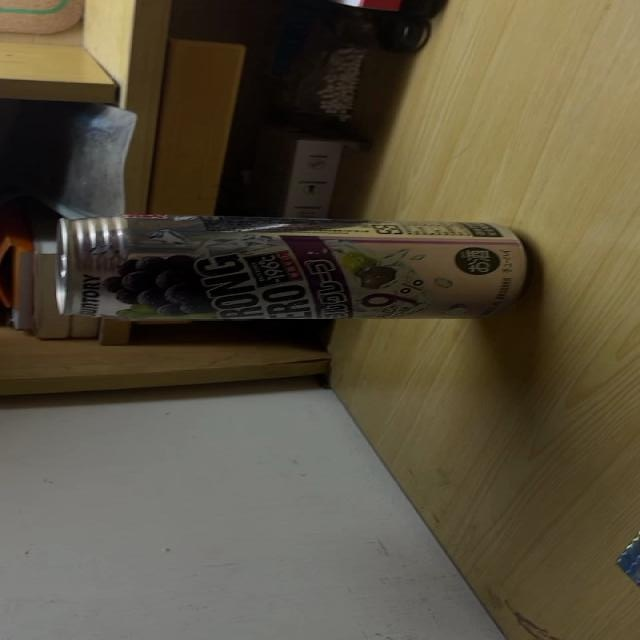Liquor: (52, 218, 538, 324)
